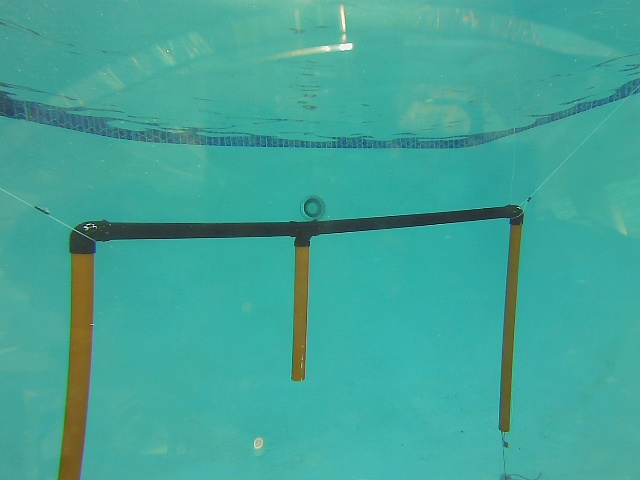Gate: (53, 245, 97, 480), (493, 218, 525, 433), (288, 239, 312, 384)
